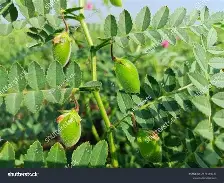crops: (0, 0, 222, 165)
